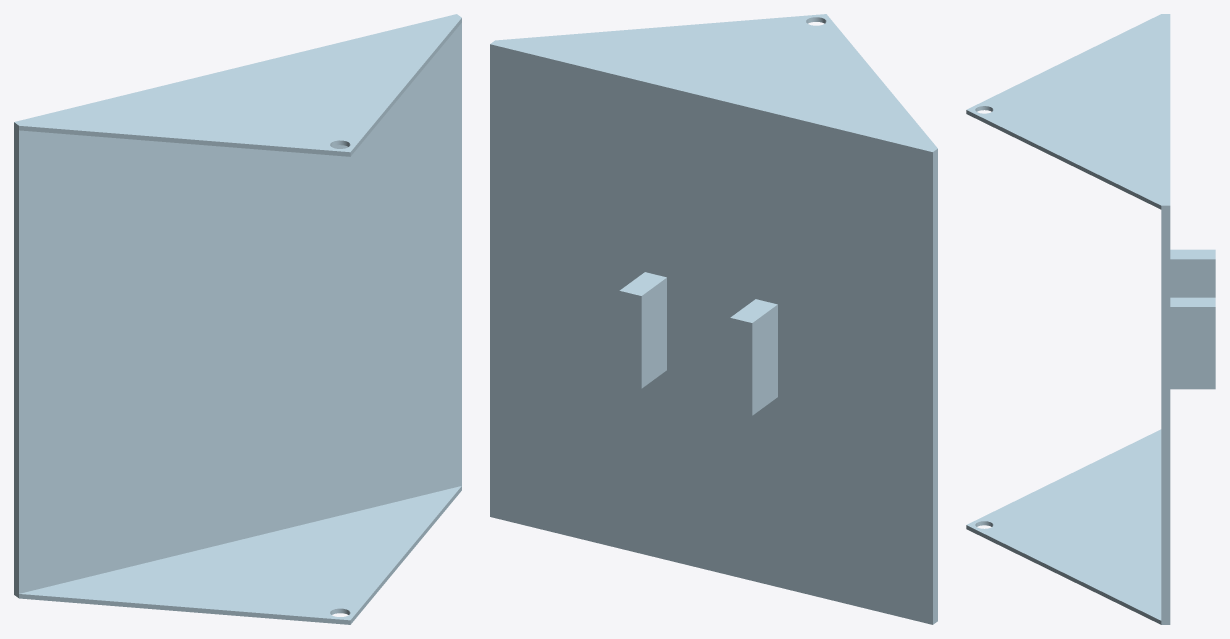
Rendered from Y Gantry.gltf.
The picture shows the model from 3 angles, left to right: view 1: azimuth 30°, elevation 25°; view 2: azimuth 150°, elevation 25°; view 3: azimuth 270°, elevation 25°; orthographic projection. The views are drawn at different scales.
Visible parts, largest first — view 1: mesh5, mesh10, mesh1, mesh7, mesh8, mesh2, mesh3; view 2: mesh13, mesh10, mesh16, mesh21, mesh7, mesh23, mesh18; view 3: mesh10, mesh1, mesh6, mesh14, mesh19, mesh3, mesh9, mesh22, mesh17.
Boxes of the visible parts, bbox=[...] form: mesh5: bbox=[19, 23, 461, 593]; mesh10: bbox=[14, 14, 461, 152]; mesh1: bbox=[19, 486, 461, 620]; mesh7: bbox=[14, 122, 18, 597]; mesh8: bbox=[19, 126, 350, 156]; mesh2: bbox=[19, 594, 350, 624]; mesh3: bbox=[350, 486, 461, 624]; mesh13: bbox=[490, 44, 932, 624]; mesh10: bbox=[490, 14, 937, 151]; mesh16: bbox=[641, 278, 666, 388]; mesh21: bbox=[752, 304, 777, 415]; mesh7: bbox=[933, 149, 937, 624]; mesh23: bbox=[730, 318, 752, 415]; mesh18: bbox=[619, 291, 641, 388]; mesh10: bbox=[966, 14, 1170, 205]; mesh1: bbox=[967, 429, 1161, 620]; mesh6: bbox=[1161, 205, 1170, 624]; mesh14: bbox=[1170, 307, 1215, 389]; mesh19: bbox=[1170, 259, 1215, 297]; mesh3: bbox=[966, 525, 1161, 624]; mesh9: bbox=[966, 110, 1161, 209]; mesh22: bbox=[1170, 249, 1215, 259]; mesh17: bbox=[1170, 297, 1215, 306].
Bounding box in the file's own units: 0.2 × 0.204 × 0.11.
